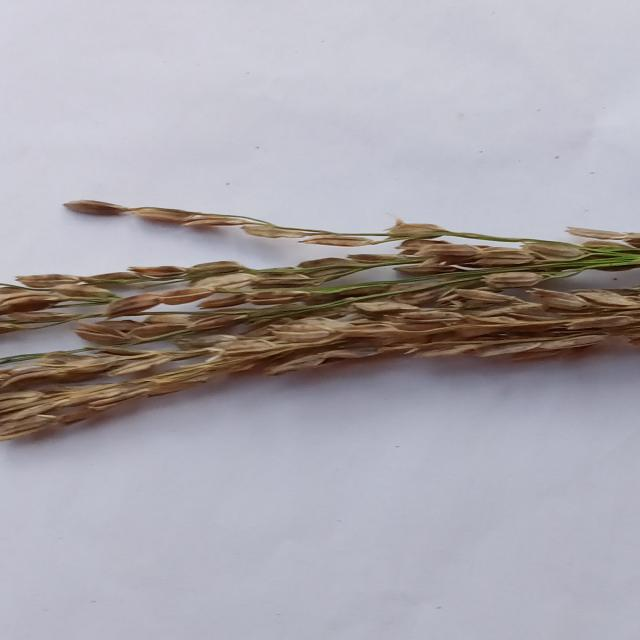Neck_Blast: (0, 281, 640, 445), (0, 231, 640, 350), (60, 196, 547, 250)
